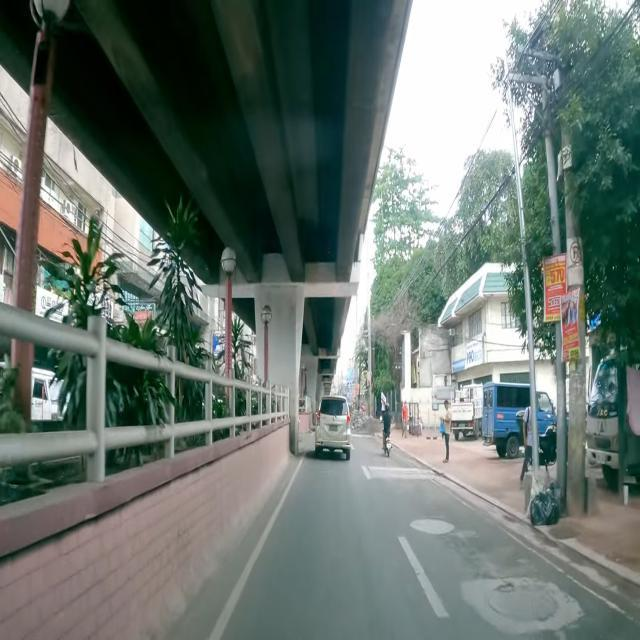car: (315, 396, 352, 459)
motorcycle: (381, 401, 392, 456)
truck: (586, 352, 640, 489), (482, 382, 556, 458), (451, 384, 483, 440)
